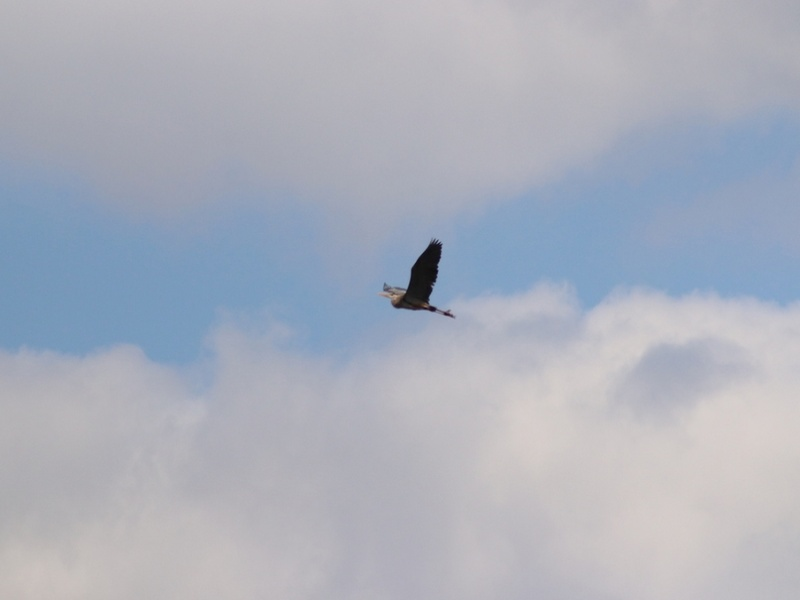heron: (380, 237, 463, 318)
